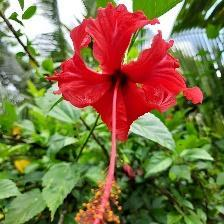hibiscus: (48, 4, 204, 224)
